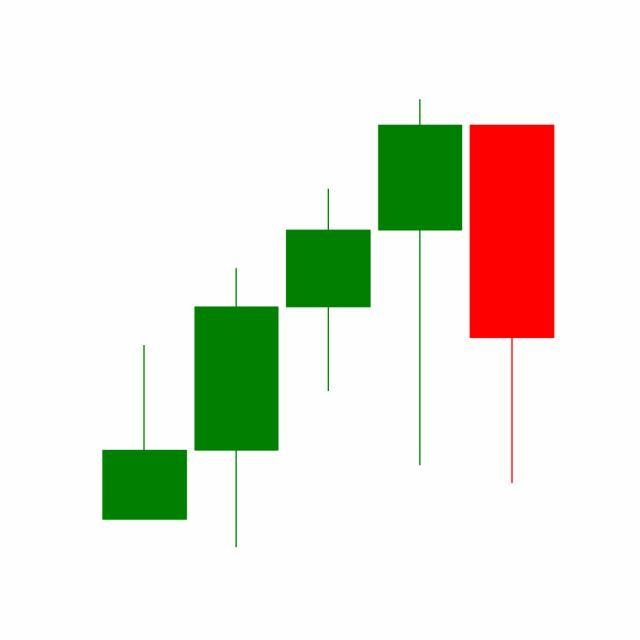Hanging Man: (374, 96, 468, 471)
